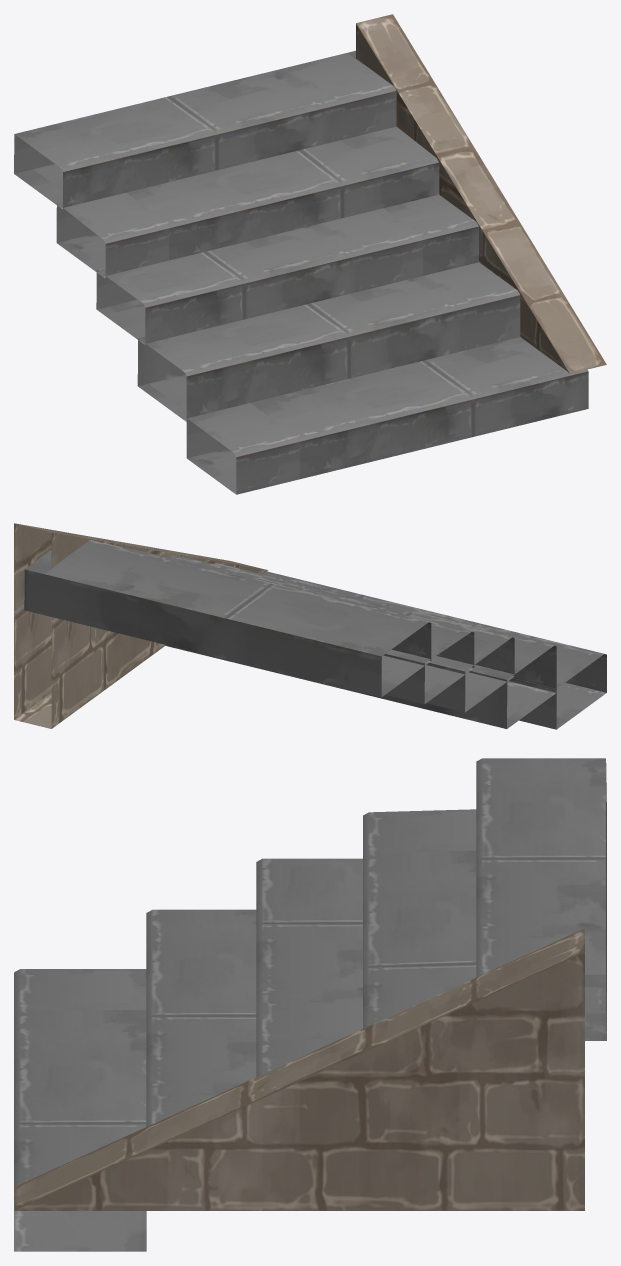
The model's file is Stairs_Exterior_Straight_R.gltf.
3 renders of one model, top to bottom at view 1: azimuth 30°, elevation 25°; view 2: azimuth 150°, elevation 25°; view 3: azimuth 270°, elevation 25°, orthographic. The views are drawn at different scales.
Parts seen in each view (by area): view 1: Stairs_Exterior_Straight_R; view 2: Stairs_Exterior_Straight_R; view 3: Stairs_Exterior_Straight_R.
Boxes of the visible parts, x1,y1,x2,y2 form: Stairs_Exterior_Straight_R: [14, 14, 606, 494]; Stairs_Exterior_Straight_R: [14, 523, 606, 729]; Stairs_Exterior_Straight_R: [14, 758, 606, 1251].
Size of the model in its own units: 2 by 1.2 by 2.08.
Materials: 2 (2 with a texture image).
